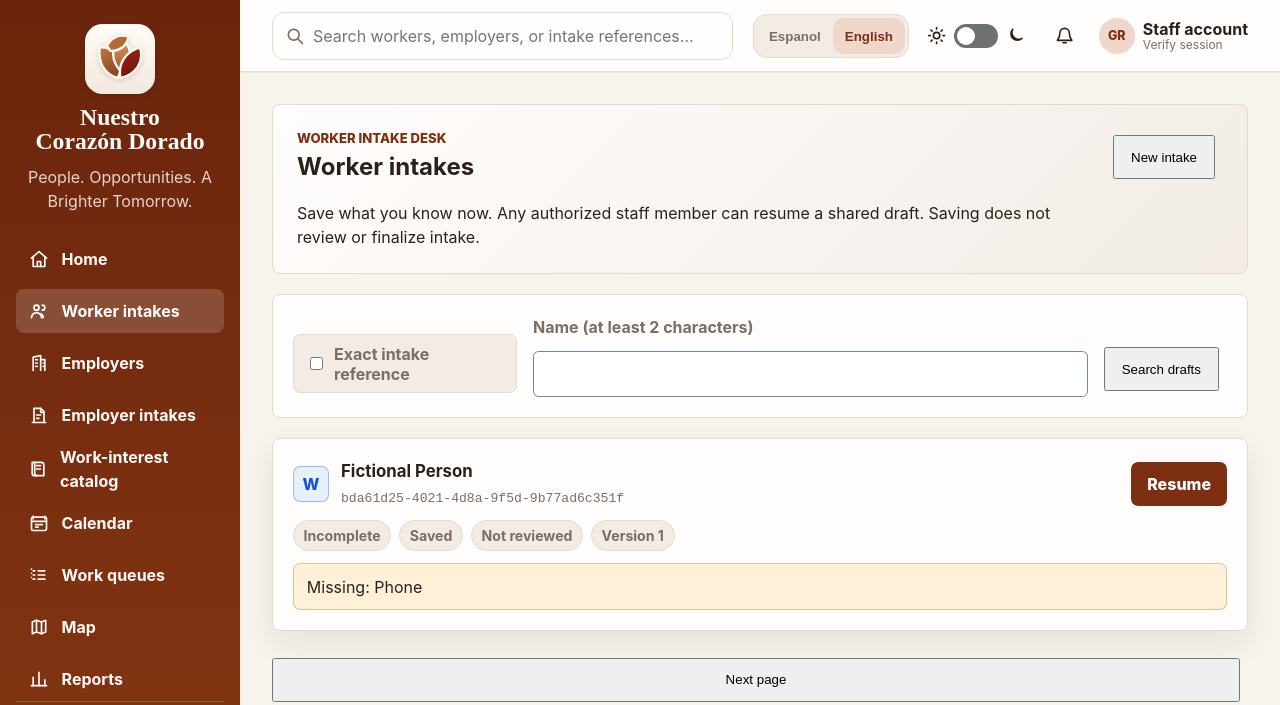
Test: staff intake drafts › loads bounded shared drafts and ignores late results after selecting a record
Click the link "Resume" at coordinates (1179, 484), box [1131,462,1227,506]
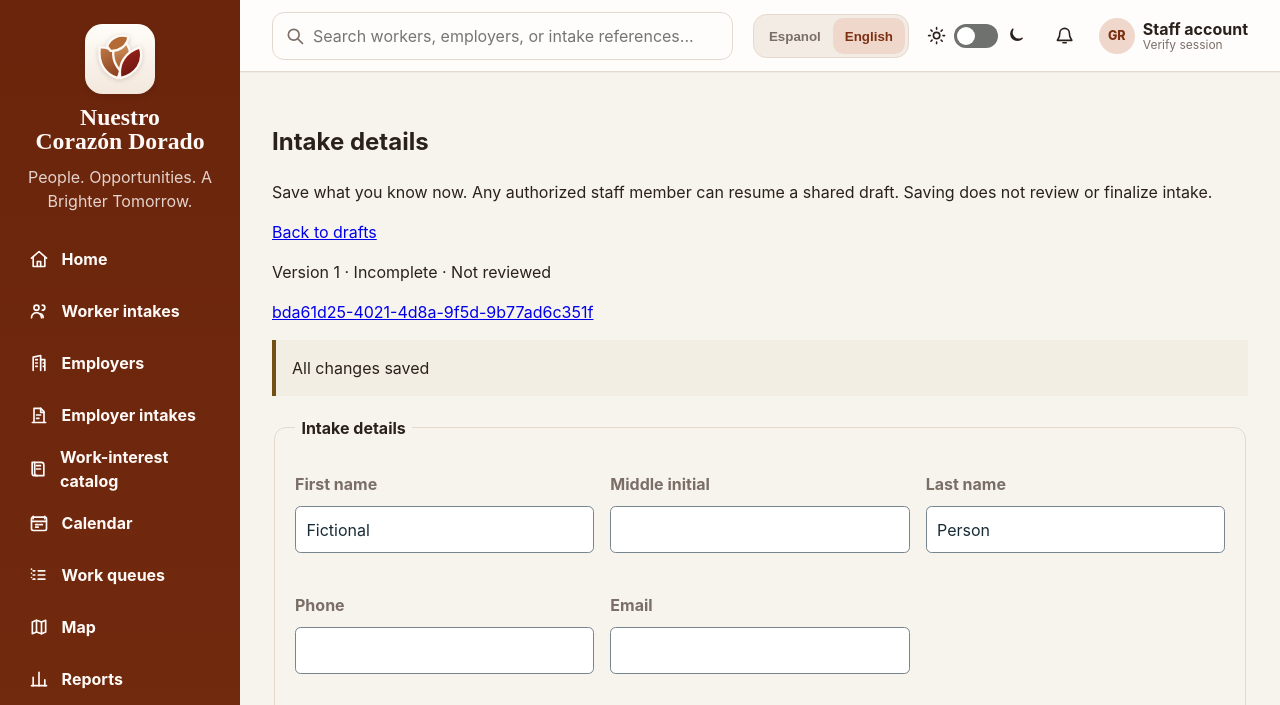
Expected: the field showing "Fictional" is shown, [295,506,594,553]
